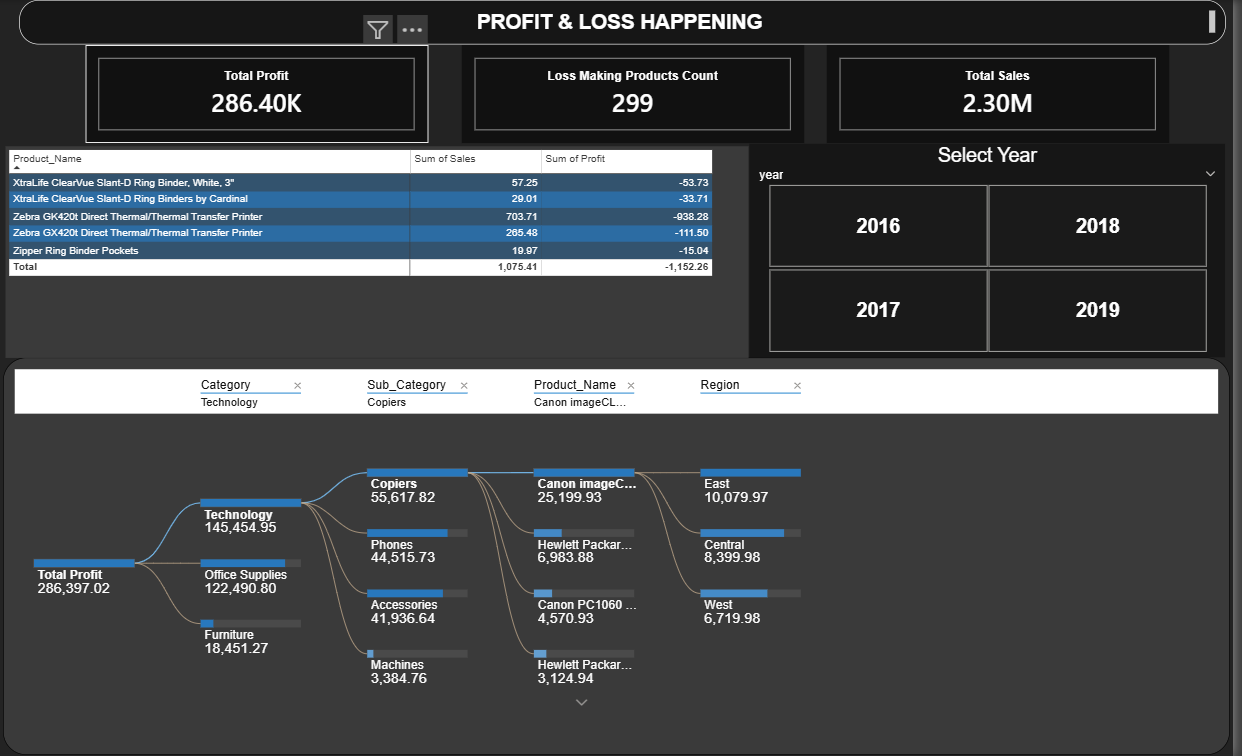

Layout of this report page (visuals, bound fields, positions):
{"tool":"powerbi","page":{"name":"WHERE IS PROFIT-LOSS HAPPENING?","canvas":[1600,980],"ordinal":4},"visuals":[{"type":"textbox","box":[26.8,0,1564.2,57.2],"z":0},{"type":"cardVisual","fields":{"Data":["superstore_db superstore.Loss Making Products Count"]},"box":[601.1,57.7,443.9,127.4],"z":1000},{"type":"decompositionTreeVisual","fields":{"Analyze":["superstore_db superstore.Total Profit"],"ExplainBy":["superstore_db superstore.Category","superstore_db superstore.Sub_Category","superstore_db superstore.Product_Name","superstore_db superstore.Region"]},"box":[6,463.8,1590.5,515.6],"z":2000},{"type":"pivotTable","fields":{"Rows":["superstore_db superstore.Product_Name"],"Values":["Sum(superstore_db superstore.Sales)","Sum(superstore_db superstore.Profit)"]},"box":[10,189.1,963.4,274.7],"z":3000},{"type":"slicer","title":"Select Year","fields":{"Values":["DateTable.year"]},"box":[973.4,187.1,617.1,276.7],"z":4000},{"type":"cardVisual","fields":{"Data":["superstore_db superstore.Total Sales"]},"box":[1074.9,57.7,443.9,127.4],"z":5000},{"type":"cardVisual","fields":{"Data":["superstore_db superstore.Total Profit"]},"box":[113.5,57.7,443.9,127.4],"z":6000}]}

Visuals, with their boxes in screenshot pixels (x1, y1, x2, y2), scaled from the page's 1600x980 canvas onto the 1242x756 screenshot:
textbox: 21 0 1235 44
cardVisual - superstore_db superstore.Loss Making Products Count: 467 45 811 143
decompositionTreeVisual - superstore_db superstore.Total Profit x superstore_db superstore.Category: 5 358 1239 755
pivotTable - superstore_db superstore.Product_Name x Sum(superstore_db superstore.Sales): 8 146 756 358
"Select Year" slicer: 756 144 1235 358
cardVisual - superstore_db superstore.Total Sales: 834 45 1179 143
cardVisual - superstore_db superstore.Total Profit: 88 45 433 143
